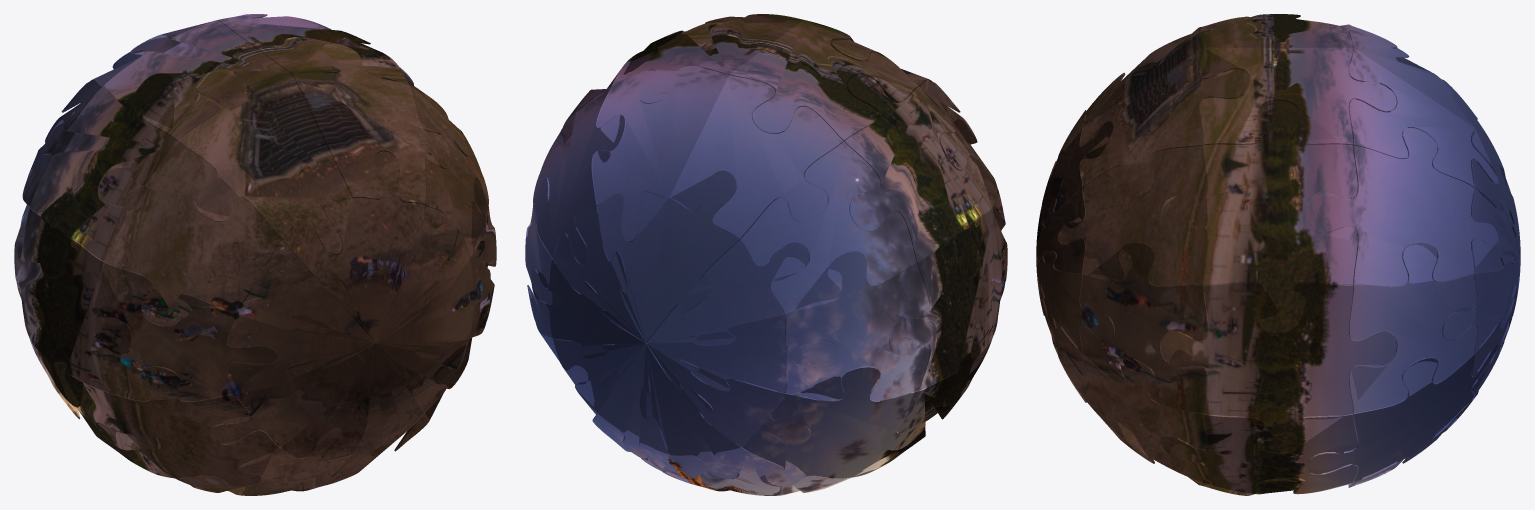
File: easy-puzzle-v16.fbx
The picture shows the model from 3 angles, left to right: view 1: azimuth 30°, elevation 25°; view 2: azimuth 150°, elevation 25°; view 3: azimuth 270°, elevation 25°; orthographic projection.
Visible parts, largest first — view 1: Street View 360 1.013, Street View 360 1.045, Street View 360 1.018, Street View 360 1.042, Street View 360 1.046, Street View 360 1.044, Street View 360 1.035, Street View 360 1.047, Street View 360 1.017, Street View 360 1.043, Street View 360 1.005, Street View 360 1.048 (+6 smaller); view 2: Street View 360 1.025, Street View 360 1.027, Street View 360 1.042, Street View 360 1.028, Street View 360 1.016, Street View 360 1.006, Street View 360 1.029, Street View 360 1.035, Street View 360 1.017, Street View 360 1.034, Street View 360 1.005, Street View 360 1.030 (+7 smaller); view 3: Street View 360 1.041, Street View 360 1.040, Street View 360 1.034, Street View 360 1.043, Street View 360 1.051, Street View 360 1.005, Street View 360 1.033, Street View 360 1.044, Street View 360 1.039, Street View 360 1.013, Street View 360 1.050, Street View 360 1.025 (+6 smaller).
Part boxes in pixels (left/top/right/bottom): Street View 360 1.013: left=212, top=151, right=490, bottom=460; Street View 360 1.045: left=99, top=141, right=281, bottom=326; Street View 360 1.018: left=178, top=69, right=352, bottom=254; Street View 360 1.042: left=30, top=74, right=177, bottom=279; Street View 360 1.046: left=92, top=262, right=277, bottom=401; Street View 360 1.044: left=293, top=43, right=450, bottom=204; Street View 360 1.035: left=14, top=208, right=132, bottom=406; Street View 360 1.047: left=96, top=367, right=279, bottom=486; Street View 360 1.017: left=103, top=20, right=292, bottom=141; Street View 360 1.043: left=410, top=86, right=488, bottom=265; Street View 360 1.005: left=218, top=14, right=408, bottom=85; Street View 360 1.048: left=175, top=428, right=359, bottom=495; Street View 360 1.025: left=531, top=171, right=836, bottom=478; Street View 360 1.027: left=740, top=142, right=916, bottom=313; Street View 360 1.042: left=844, top=74, right=991, bottom=279; Street View 360 1.028: left=784, top=251, right=929, bottom=401; Street View 360 1.016: left=669, top=75, right=843, bottom=239; Street View 360 1.006: left=592, top=66, right=728, bottom=242; Street View 360 1.029: left=742, top=366, right=924, bottom=486; Street View 360 1.035: left=889, top=208, right=1007, bottom=406; Street View 360 1.017: left=729, top=20, right=917, bottom=141; Street View 360 1.034: left=533, top=86, right=625, bottom=265; Street View 360 1.005: left=612, top=14, right=802, bottom=103; Street View 360 1.030: left=662, top=447, right=845, bottom=495; Street View 360 1.041: left=1160, top=100, right=1357, bottom=332; Street View 360 1.040: left=1160, top=281, right=1396, bottom=452; Street View 360 1.034: left=1307, top=127, right=1498, bottom=286; Street View 360 1.043: left=1058, top=145, right=1208, bottom=286; Street View 360 1.051: left=1080, top=242, right=1208, bottom=413; Street View 360 1.005: left=1199, top=47, right=1396, bottom=145; Street View 360 1.033: left=1348, top=242, right=1477, bottom=413; Street View 360 1.044: left=1080, top=47, right=1250, bottom=197; Street View 360 1.039: left=1160, top=414, right=1357, bottom=493; Street View 360 1.013: left=1036, top=114, right=1114, bottom=401; Street View 360 1.050: left=1058, top=344, right=1208, bottom=482; Street View 360 1.025: left=1443, top=80, right=1520, bottom=426.
Bounding box in the file's own units: 191 × 189 × 192.
